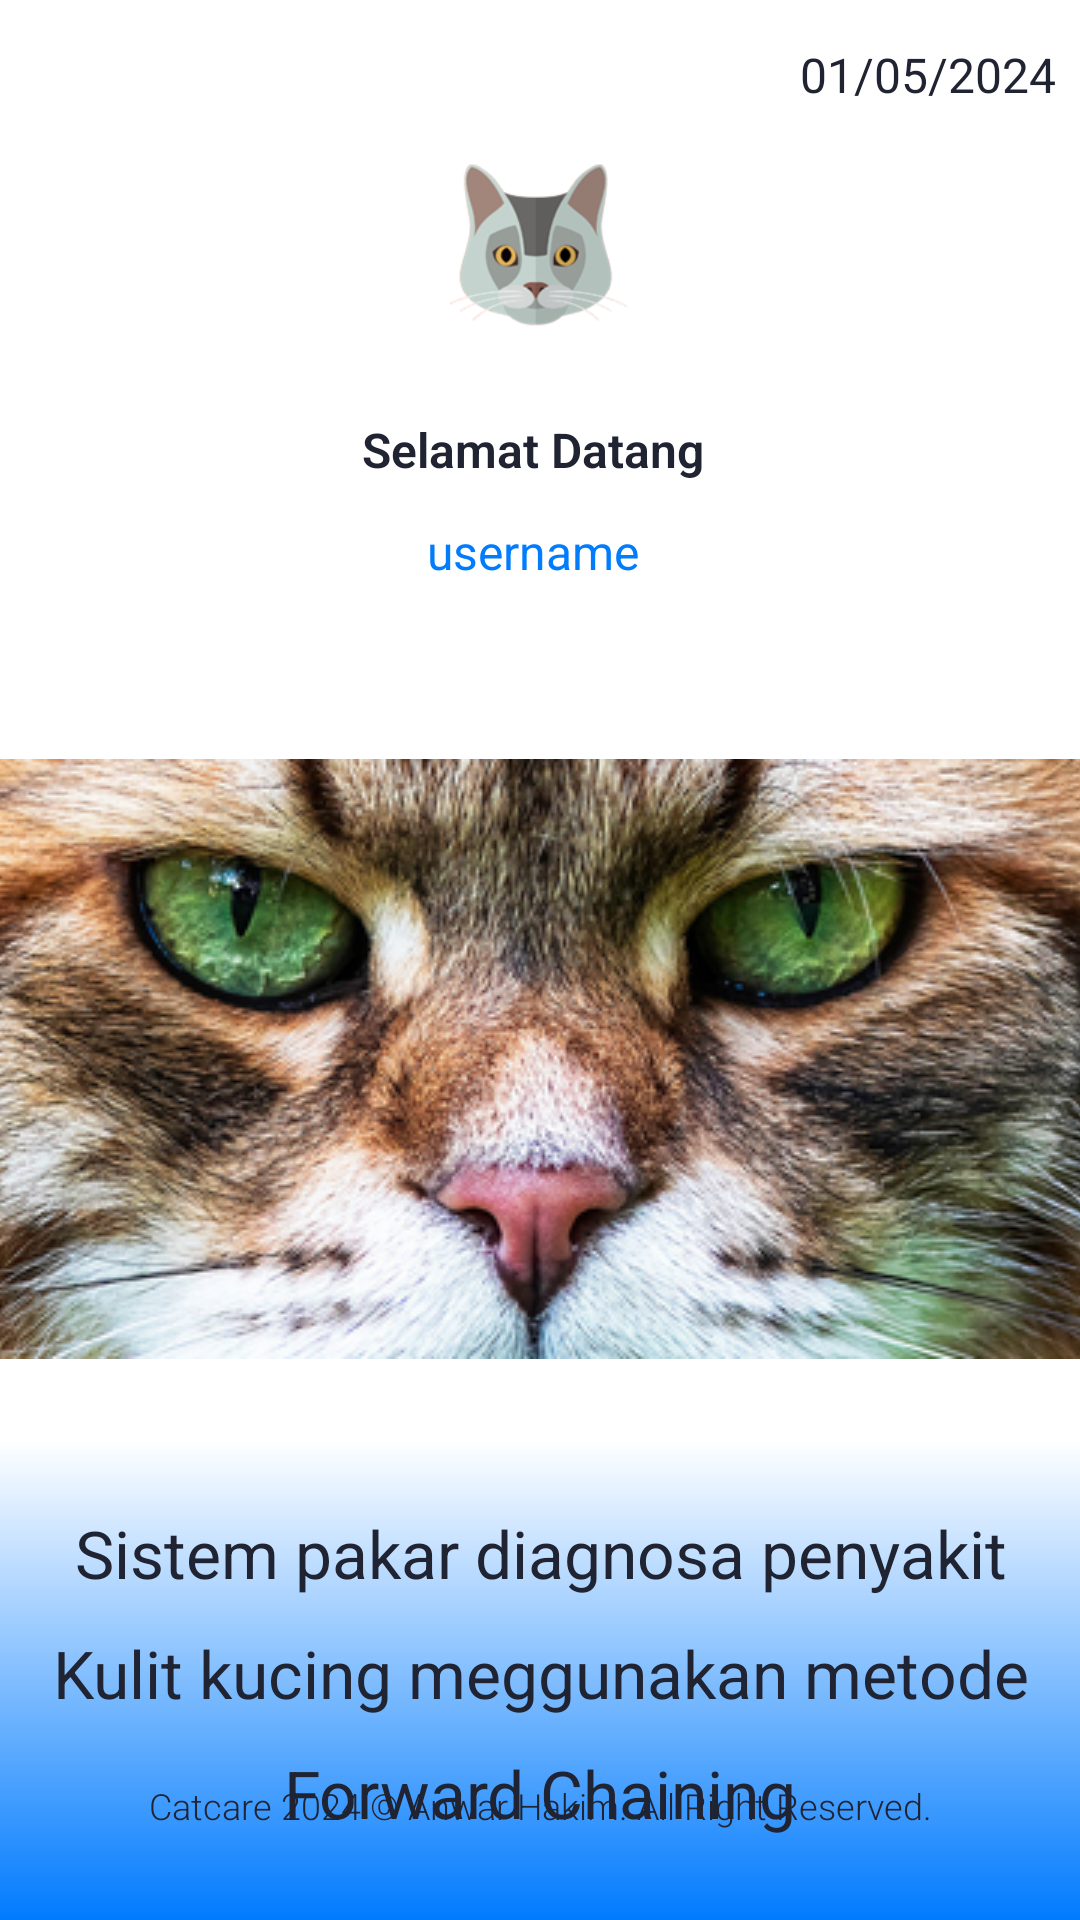

Icon click points for this 1080x1920 phone screenshot, format point (x, y):
profile: point (531, 244)
